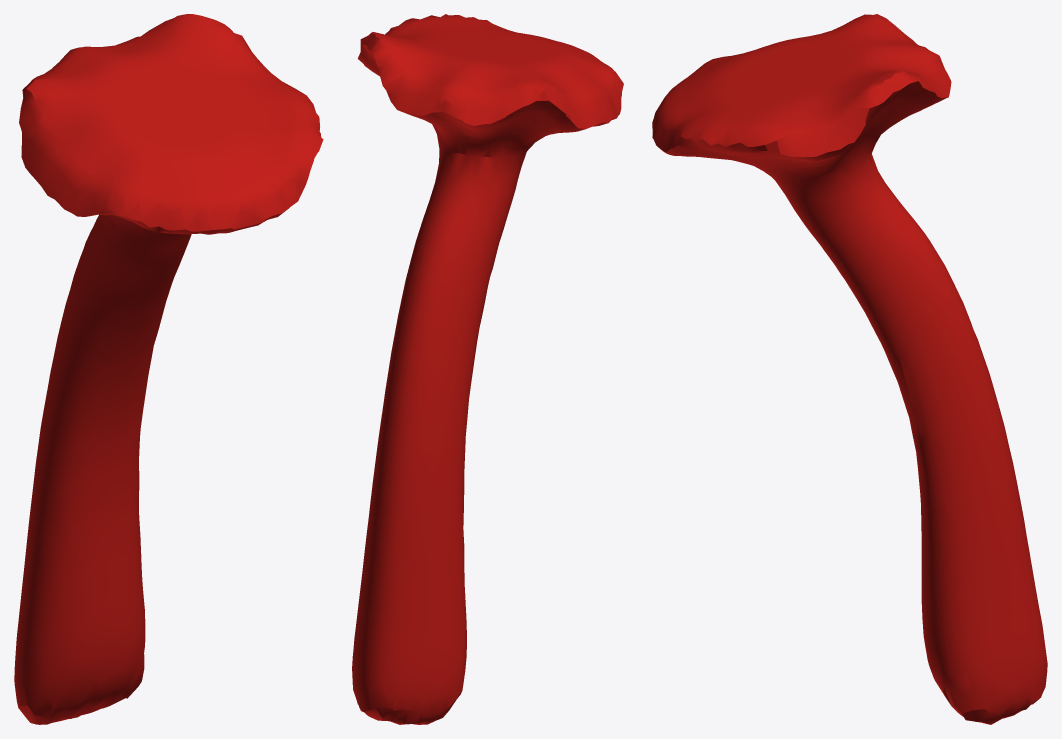
File: BasicMushroomPlatTilted_remeshed.fbx
3 views of the same model, side by side, from view 1: azimuth 30°, elevation 25°; view 2: azimuth 150°, elevation 25°; view 3: azimuth 270°, elevation 25° (orthographic). The views are drawn at different scales.
Visible parts, largest first — view 1: Cylinder.002; view 2: Cylinder.002; view 3: Cylinder.002.
Boxes of the visible parts, box(x1,y1,x2,y2) form: Cylinder.002: box(14, 14, 323, 724); Cylinder.002: box(352, 14, 623, 724); Cylinder.002: box(652, 14, 1047, 724).
Size of the model in its own units: 703 by 1861 by 990.
